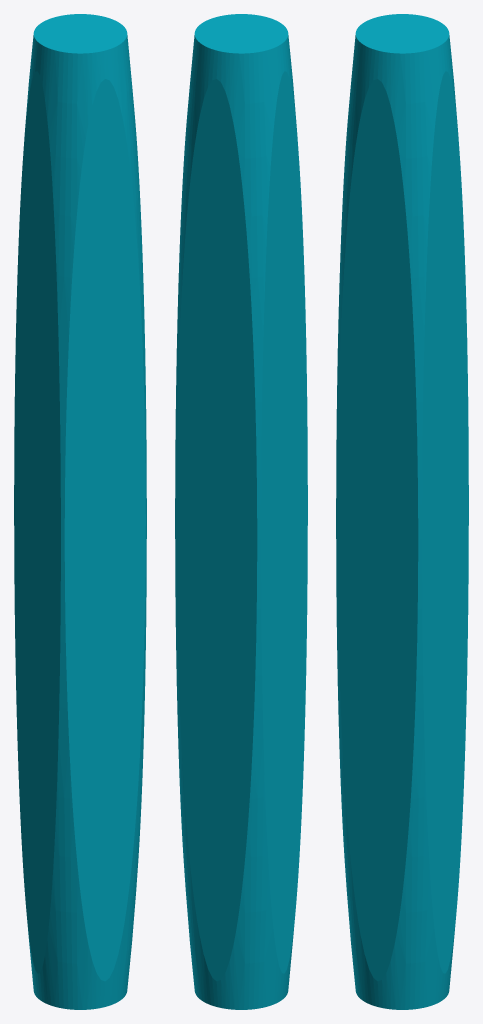
The model's file is power-strip-blue.glb.
The picture shows the model from 3 angles, left to right: view 1: azimuth 30°, elevation 25°; view 2: azimuth 150°, elevation 25°; view 3: azimuth 330°, elevation 25°; orthographic projection.
Parts seen in each view (by area): view 1: Mesh_Mesh_head_geo.001_lambert2SG.001; view 2: Mesh_Mesh_head_geo.001_lambert2SG.001; view 3: Mesh_Mesh_head_geo.001_lambert2SG.001.
Part boxes in pixels (x1,y1,x2,y2): Mesh_Mesh_head_geo.001_lambert2SG.001: (14,14,146,1009); Mesh_Mesh_head_geo.001_lambert2SG.001: (175,14,307,1009); Mesh_Mesh_head_geo.001_lambert2SG.001: (336,14,468,1009).
Size of the model in its own units: 11 by 117 by 11.
